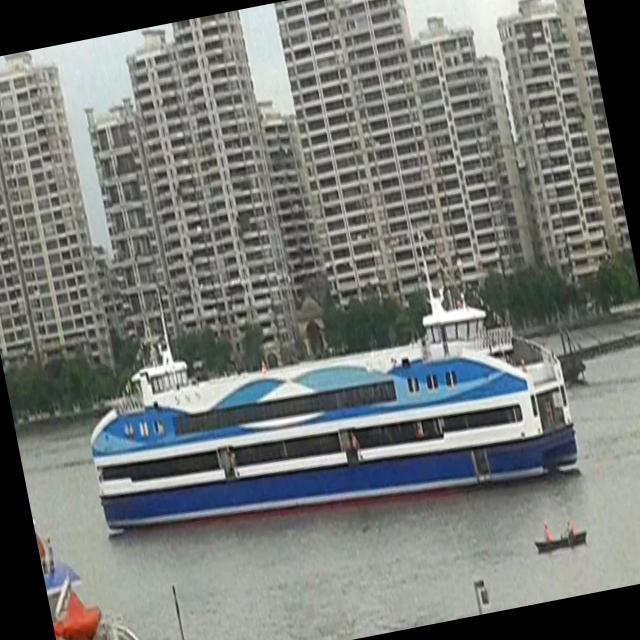Passenger: (91, 230, 578, 533)
